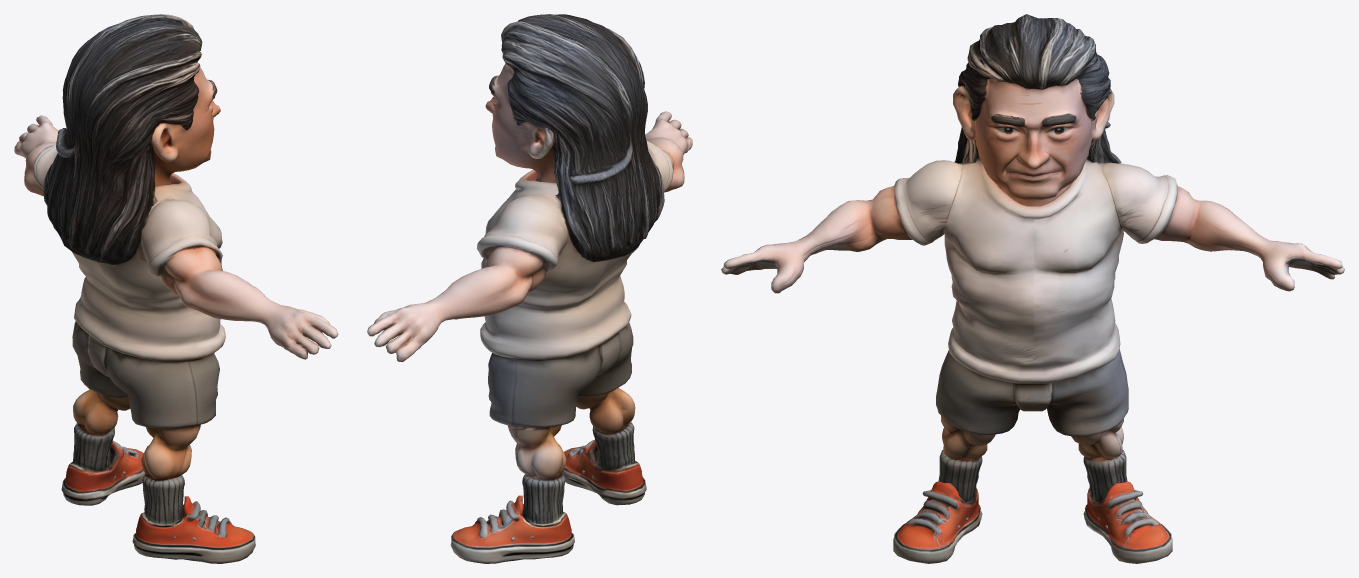
3 renders of one model, left to right at view 1: azimuth 30°, elevation 25°; view 2: azimuth 150°, elevation 25°; view 3: azimuth 270°, elevation 25°, orthographic. The views are drawn at different scales.
Parts seen in each view (by area): view 1: tripo_node_cf85d643; view 2: tripo_node_cf85d643; view 3: tripo_node_cf85d643.
Part boxes in pixels (<box>): tripo_node_cf85d643: <box>14,14,338,563</box>; tripo_node_cf85d643: <box>367,14,692,563</box>; tripo_node_cf85d643: <box>721,14,1344,563</box>.
Size of the model in its own units: 0.2994 by 0.9139 by 1.
Materials: 1 (1 with a texture image).
